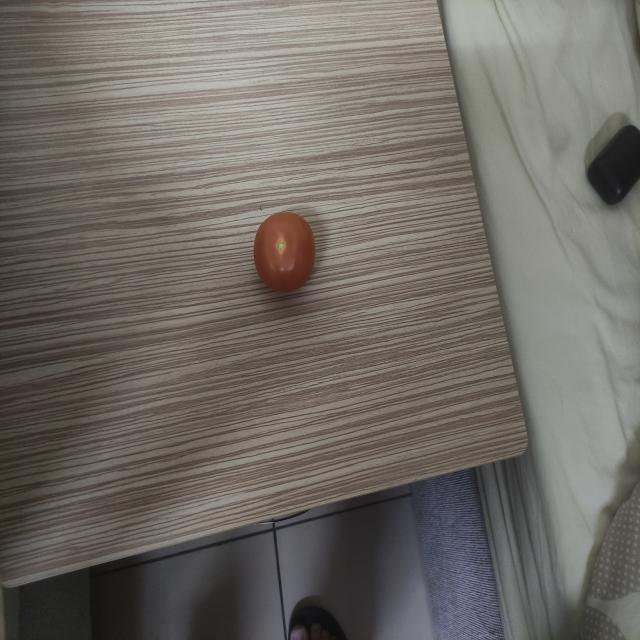sari: (246, 204, 317, 298)
